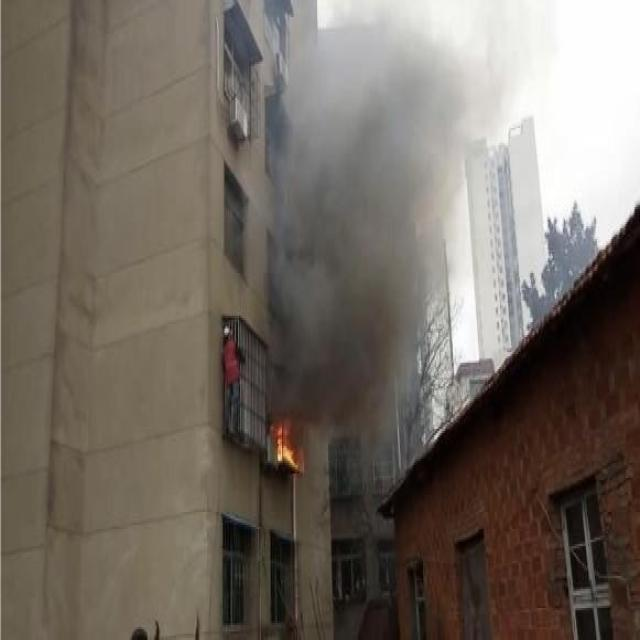Fire: (276, 418, 300, 472)
Smoke: (262, 2, 519, 433)
